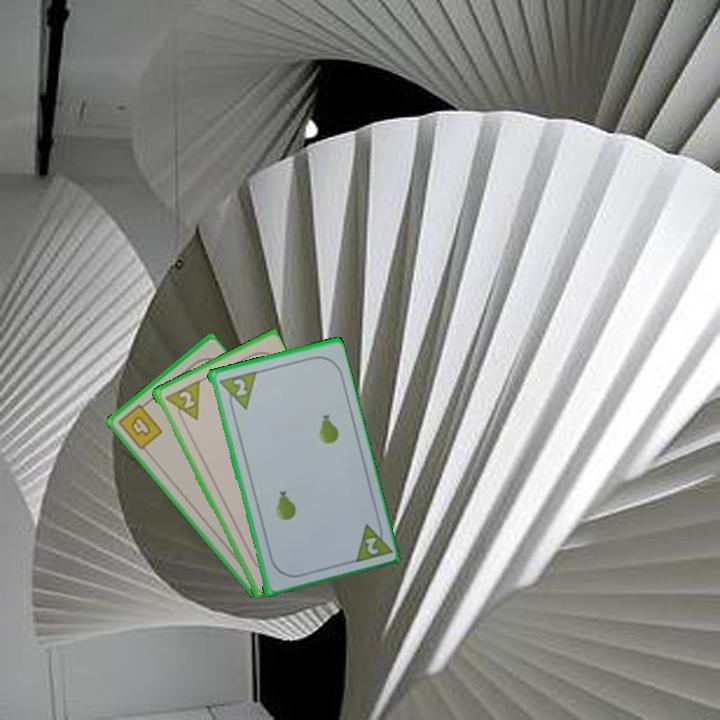2p: (349, 516, 393, 565), (161, 377, 203, 427), (229, 375, 250, 399)
4b: (114, 397, 165, 453)
